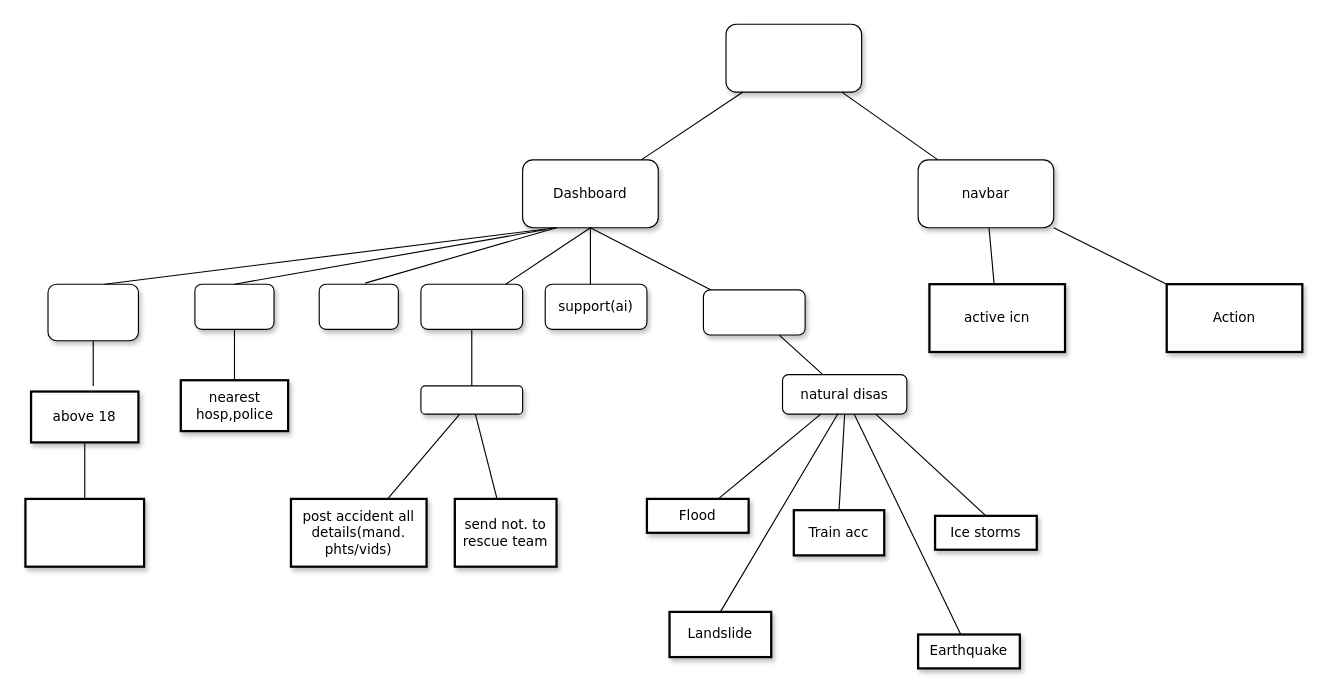
Some shapes in this 1329 by 697 pixel diagram are drawn without their labels. Here are the shapes that lost their labels. From the top down, the centre of each, then its label:
At point 794,59: "Home page".
At point 93,314: "identification of victims".
At point 235,308: "emergency details".
At point 359,308: "rescue details".
At point 472,308: "post incident".
At point 755,313: "get incident".
At point 472,401: "sign in".
At point 85,534: "victim detail, identyfying victim".
